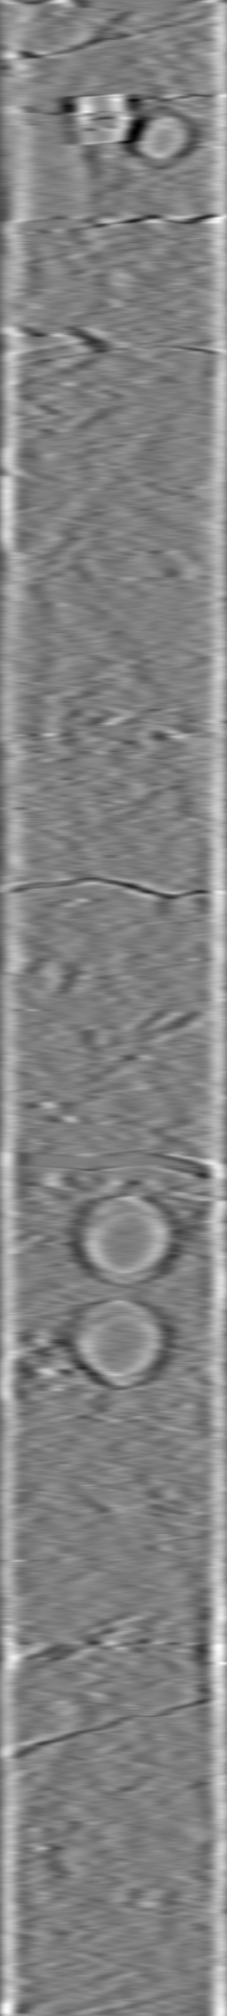hplug: (123, 107, 198, 171)
scal: (71, 1188, 177, 1288), (68, 1293, 171, 1392)
vplug: (23, 99, 103, 237)
